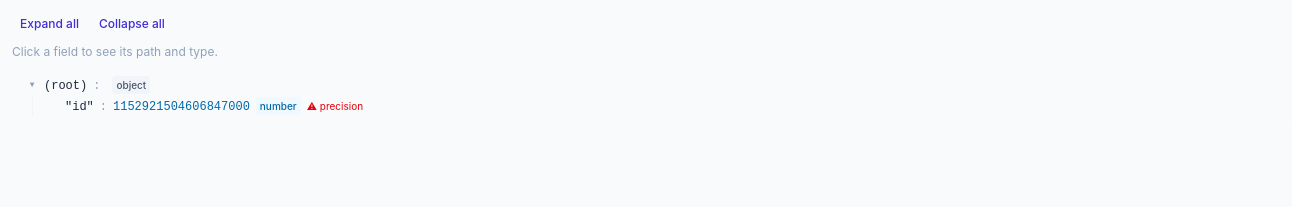
Test: JsonTreeView › AN-11: flags integers that lost precision
Check: the text "⚠ precision" is shown, box [307,98,363,114]
Click the button "\"id\" : 1152921504606847000 number ⚠ precision": (181, 106) [65,96,1280,117]
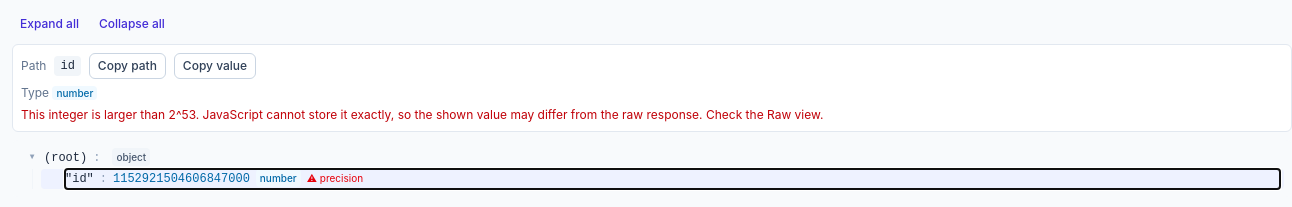
Check: the text "larger than 2^53" is shown, box [21,107,823,122]
